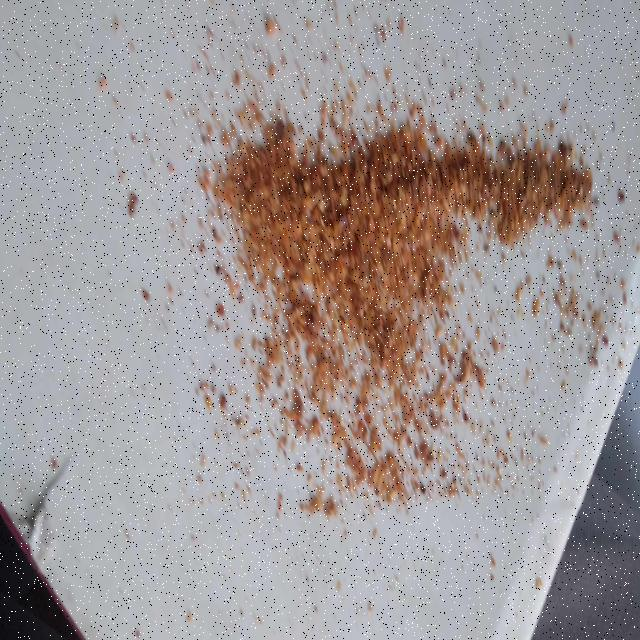Chili Pepper: (212, 90, 548, 480)
